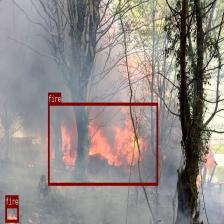fire: (48, 102, 158, 185), (5, 205, 18, 222)
